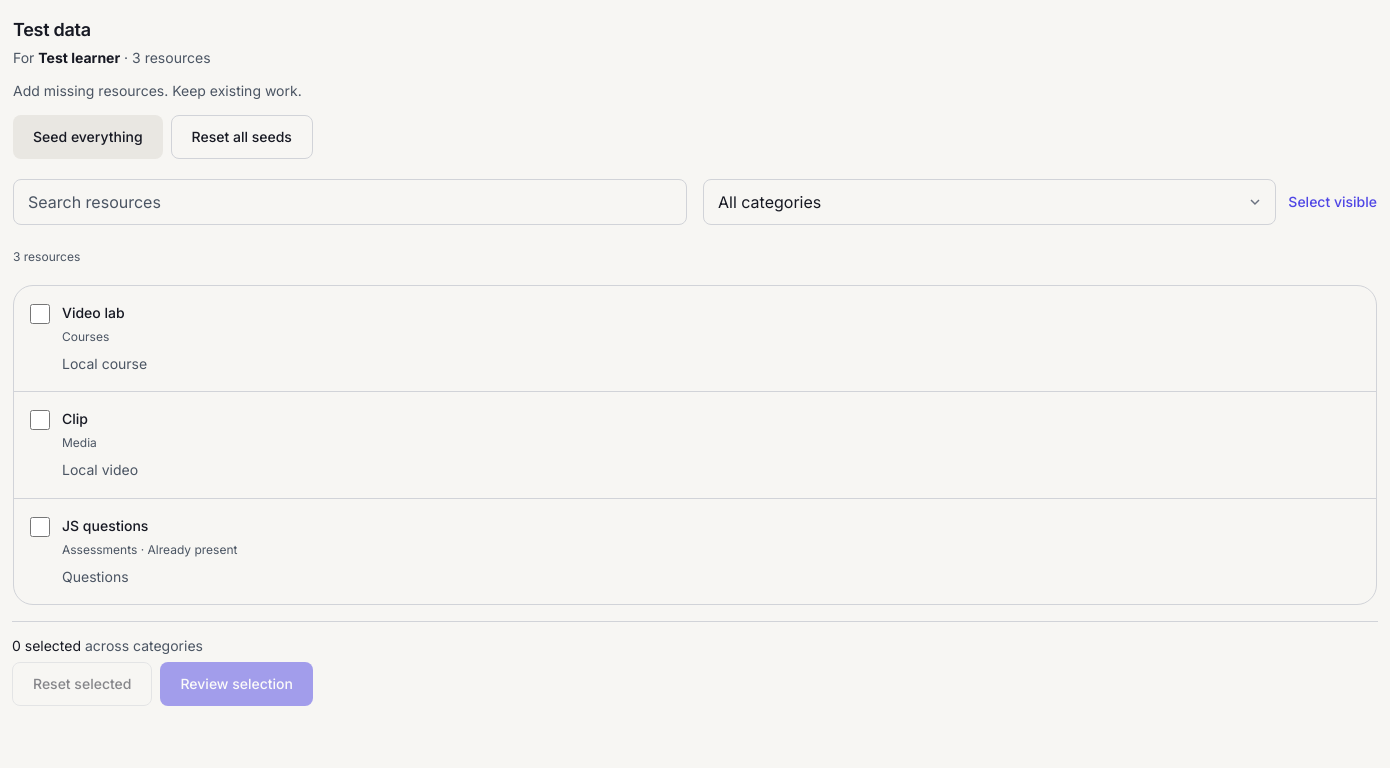
Test: Developer seed picker › keeps hidden selections when filters change and clears them explicitly
Step 1. Select "Courses" in the dropdown named "Resource category" → (990, 202), box [703,179,1276,225]
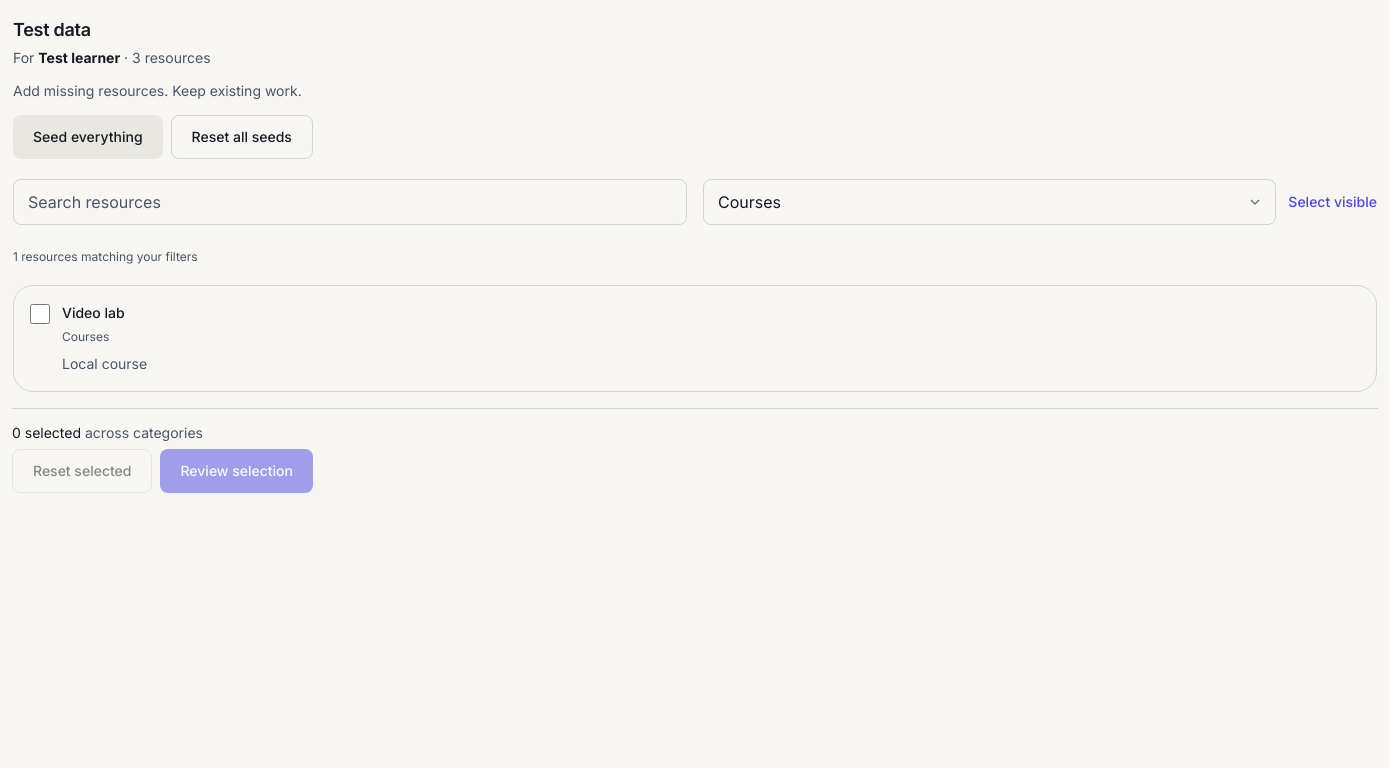
Step 2. Click the checkbox labelled "Video lab Courses Local course" → click(40, 314), box [30,304,50,324]
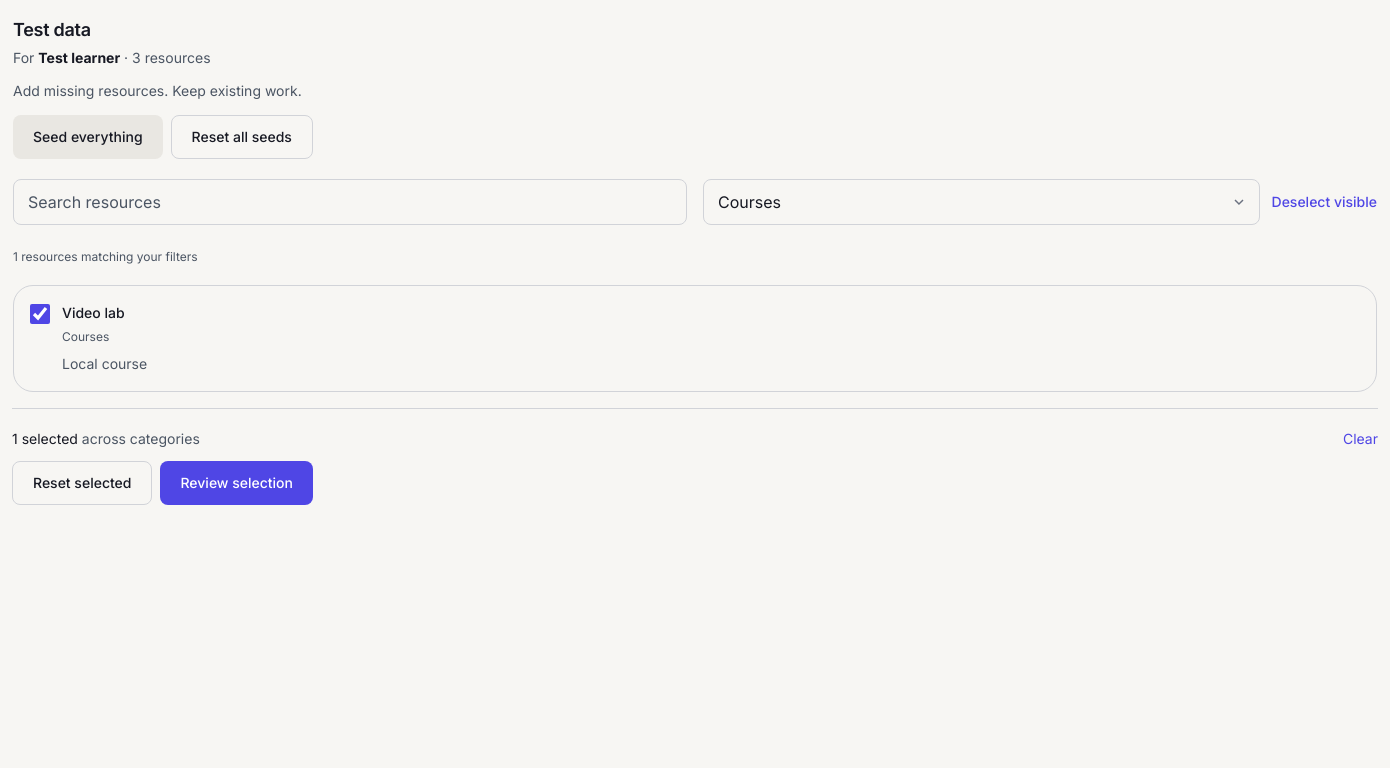
Step 3. Type "no matching resource" into the search field with placeholder "Search resources" → (350, 202), box [13,179,687,225]
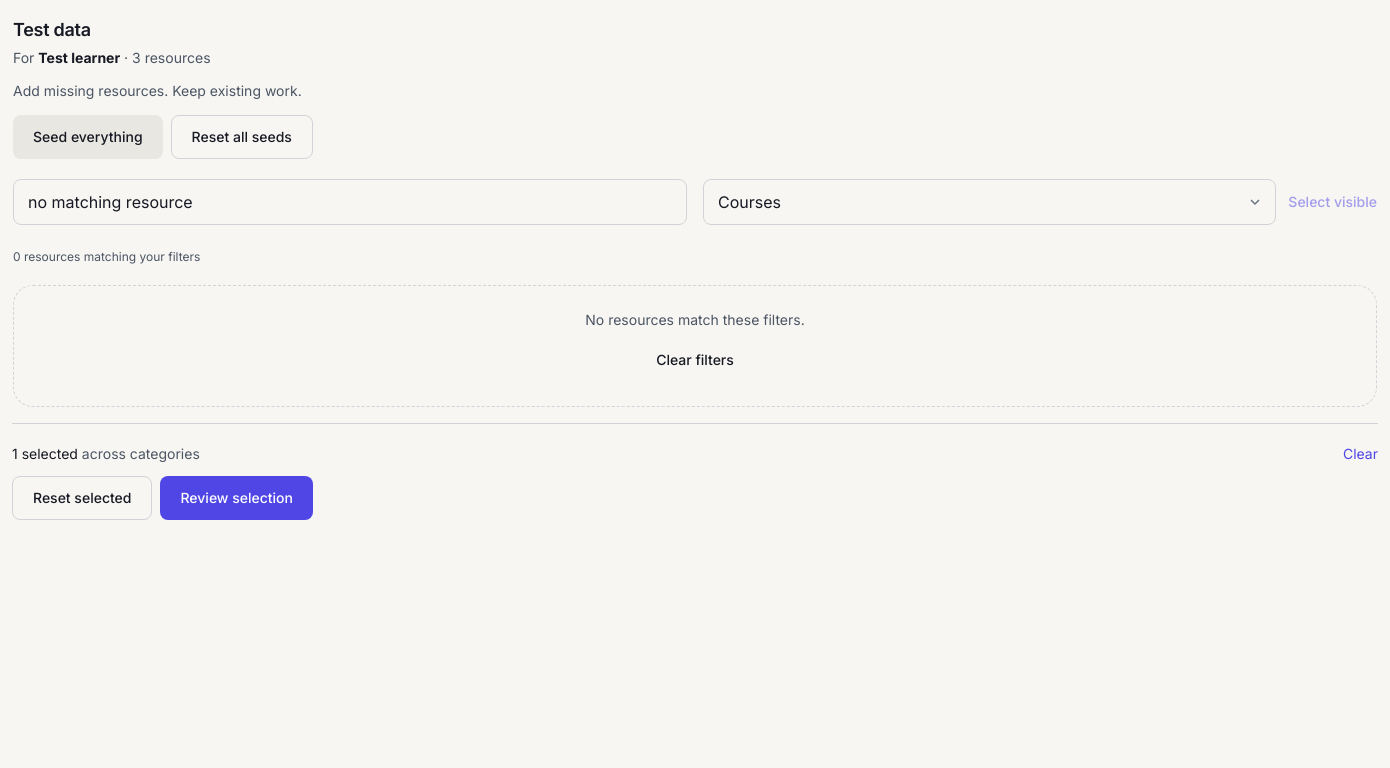
Expected: the text "1 selected" is shown, [12,445,78,462]
Expected: the text "No resources match these filters" is shown, [585,311,805,328]
Step 4. Click the button "Clear filters" → click(695, 360), box [636,338,754,382]
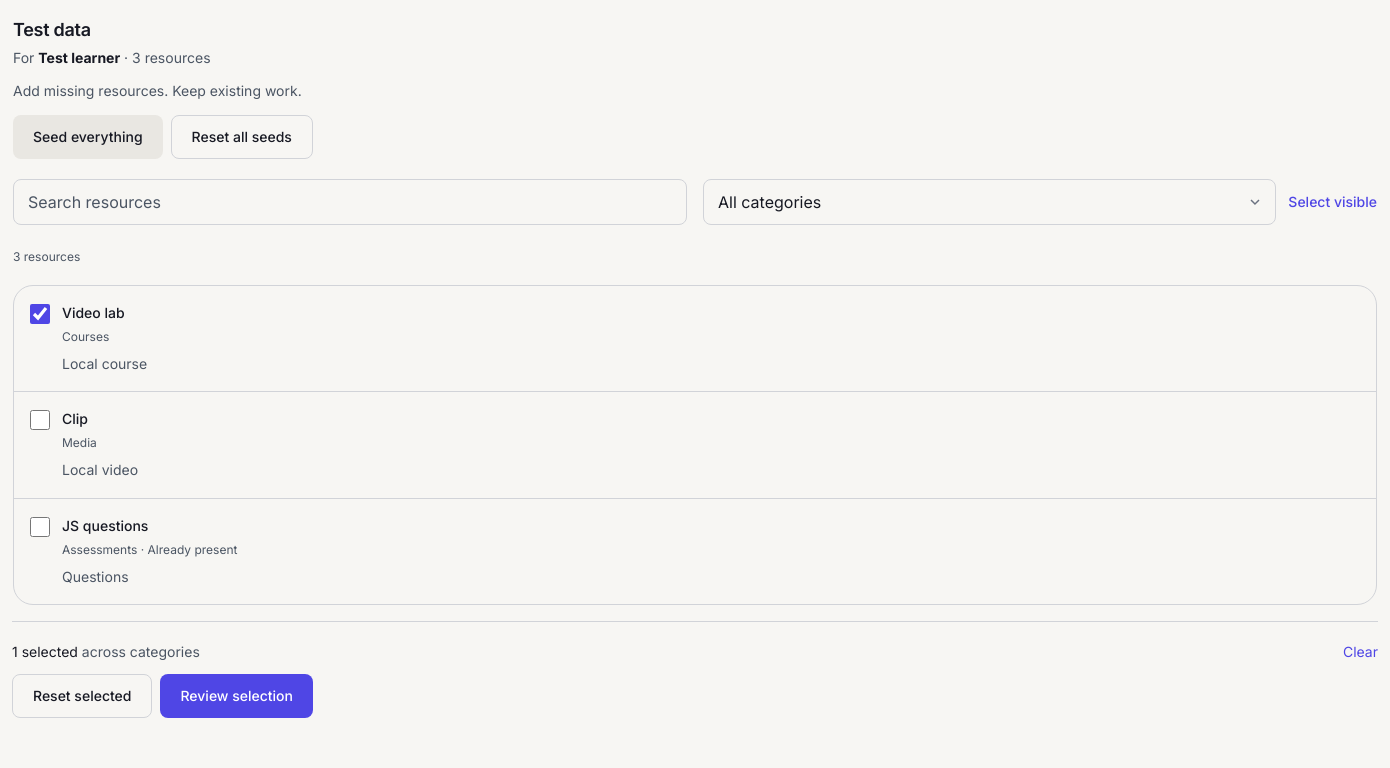
Expected: the number of checkboxes is 3, [30,304,50,324]; [30,410,50,430]; [30,517,50,537]
Expected: the checkbox labelled "Video lab Courses Local course" is checked, [30,304,50,324]
Step 5. Click the button "Clear" → click(1360, 652), box [1343,630,1378,674]
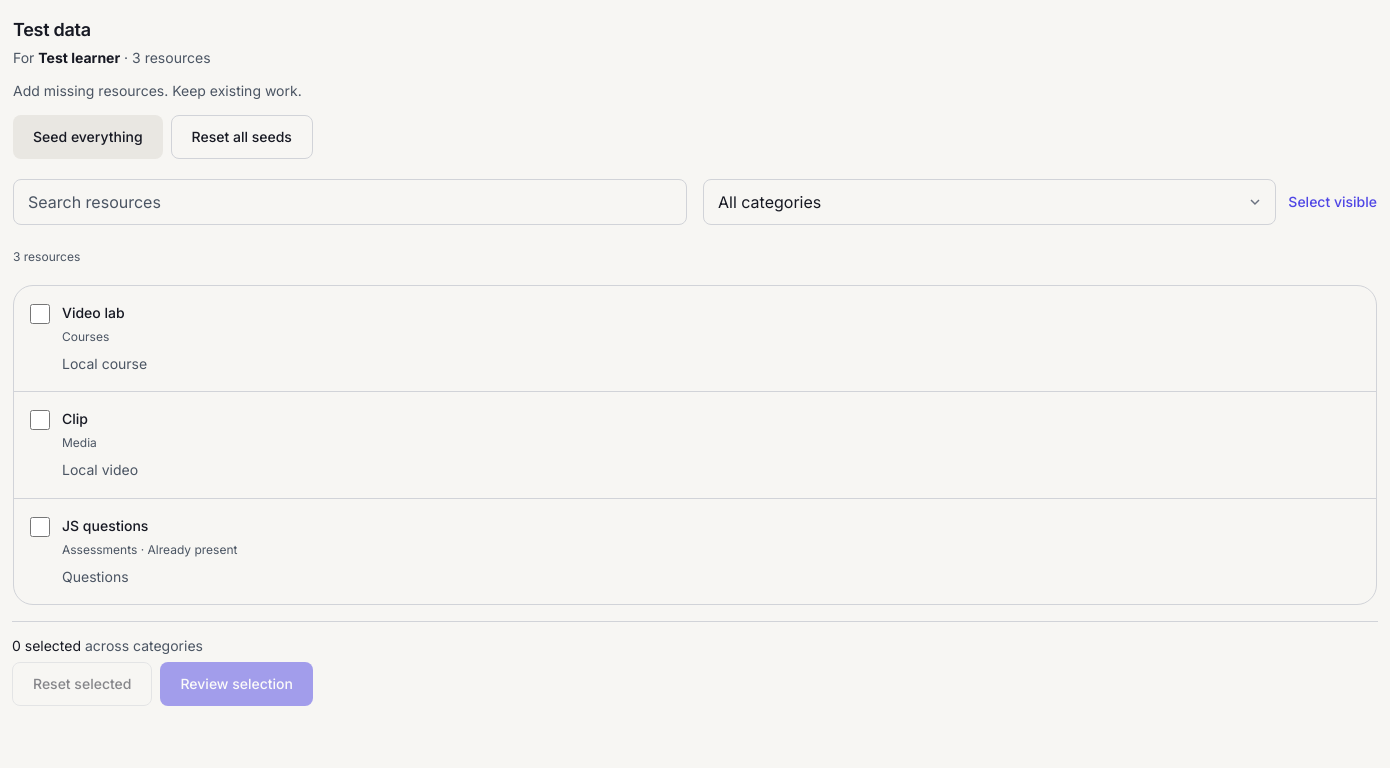
Expected: the button "Review selection" is disabled, [160,662,313,706]
Expected: the button "Reset selected" is disabled, [12,662,152,706]
